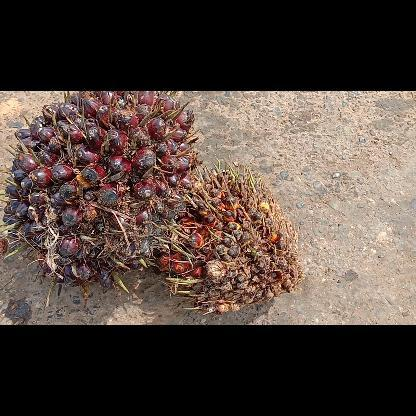Kurang masak: (0, 90, 196, 304)
TBS abnormal: (156, 160, 302, 316)
